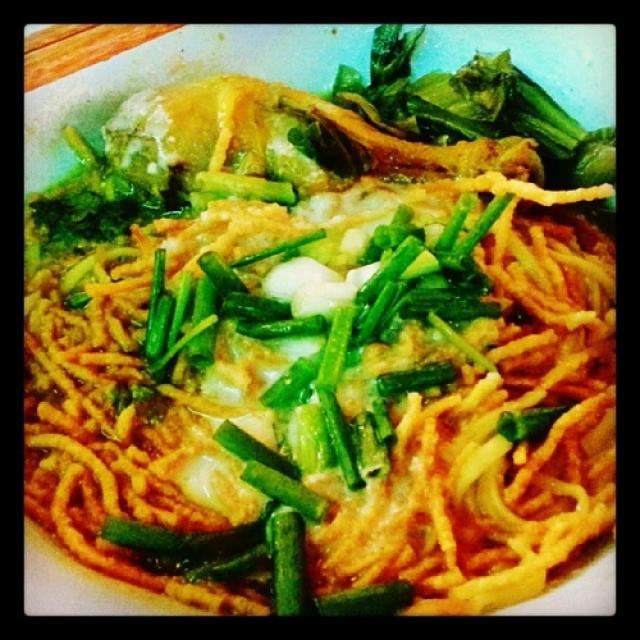面条主食: (36, 47, 605, 608)
